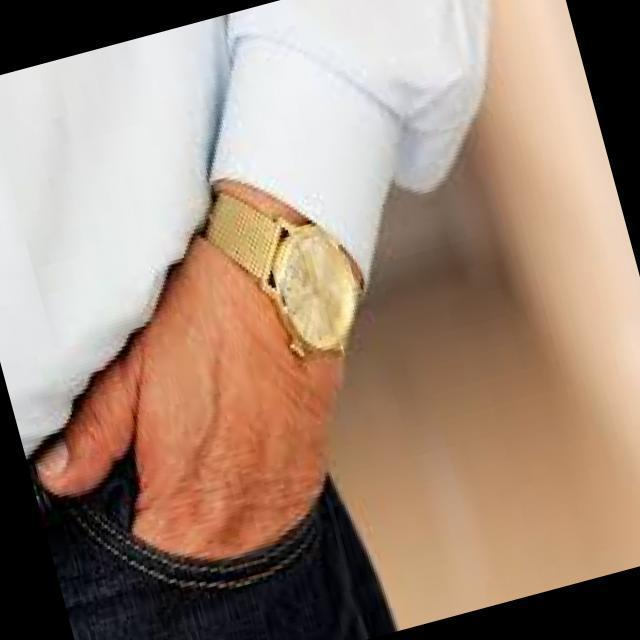Watch: (205, 190, 366, 365)
